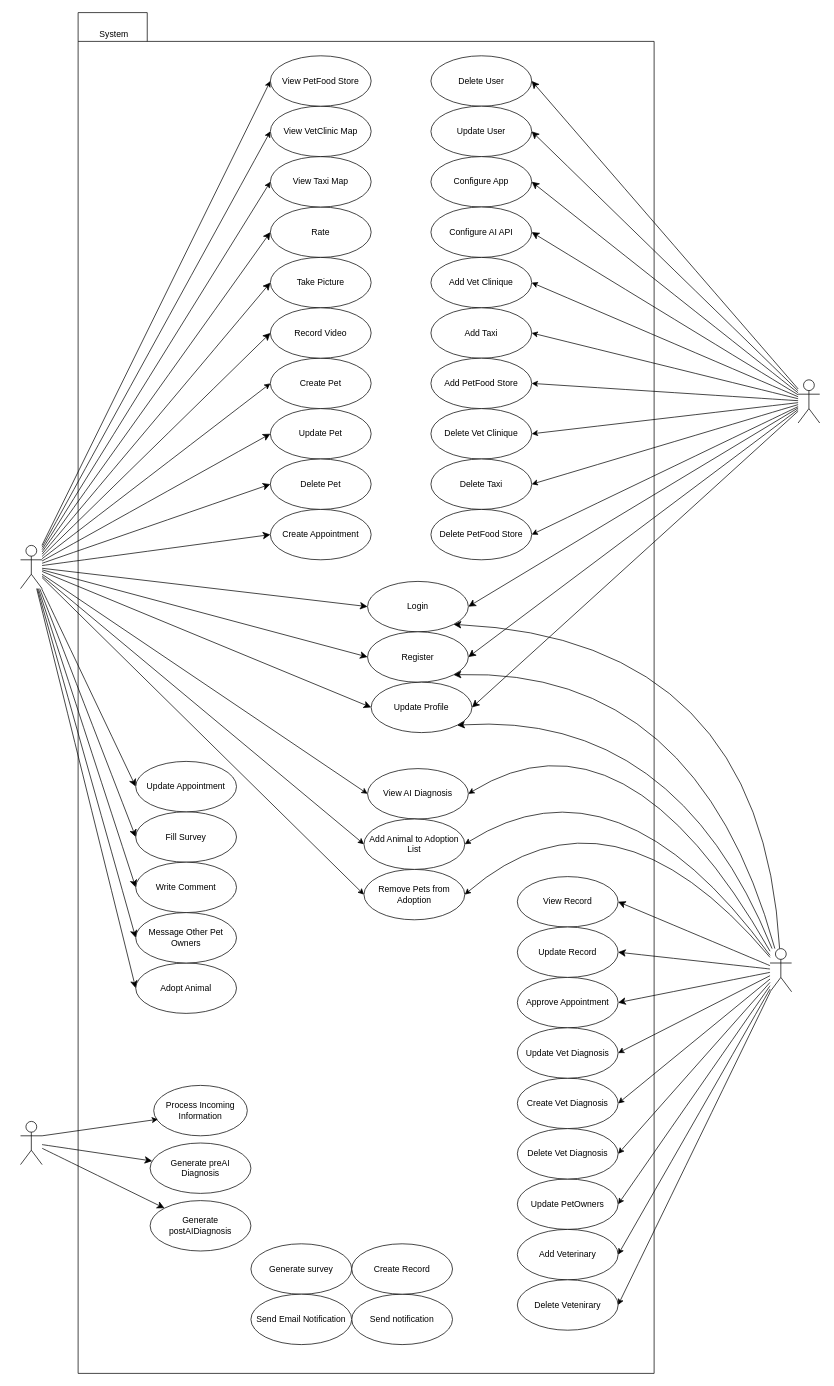
Image size: 834x1386. Some labels were removed from this diagram. The centre of each missing label's shape, as x and y in pixels:
Admin: the point at 808,401
AI: the point at 31,1143
PetOwner: the point at 31,567
Vet: the point at 780,970
